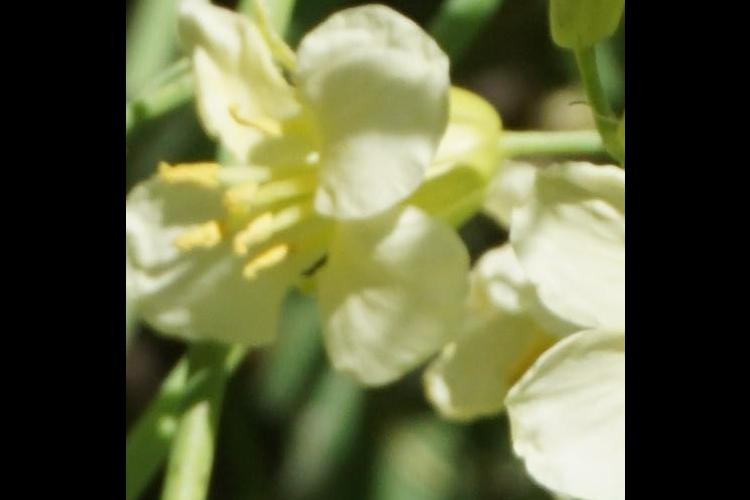bud: (545, 1, 613, 47)
white: (144, 1, 464, 401), (489, 161, 620, 500)
